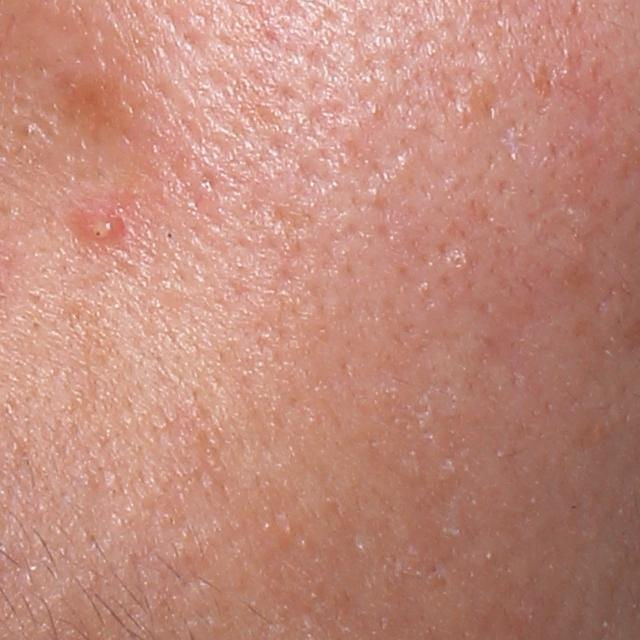pustule: (72, 208, 126, 248)
